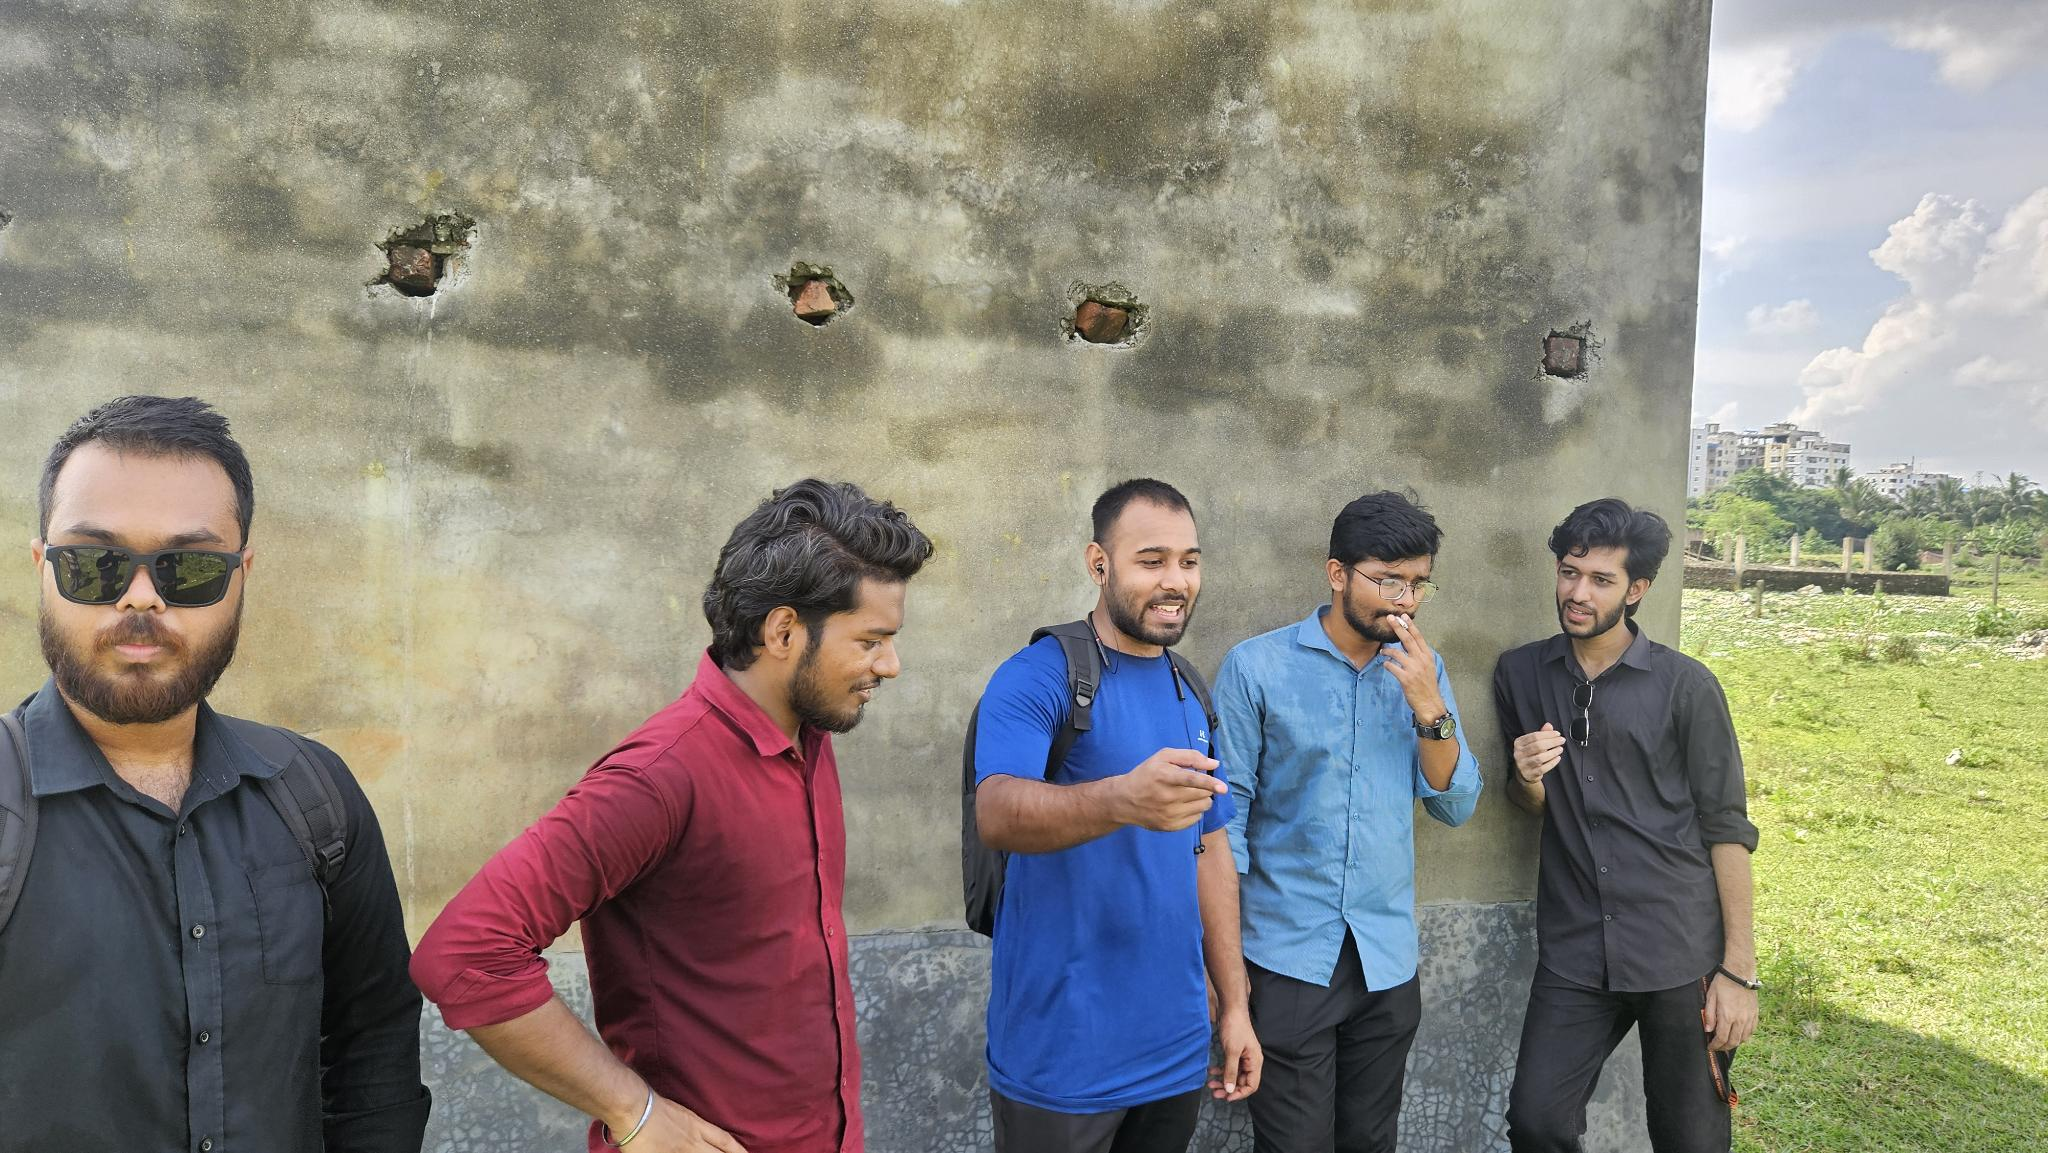cigarette: (1391, 613, 1411, 630)
nonSmoker: (407, 479, 937, 1153), (0, 391, 428, 1153), (961, 477, 1265, 1153), (1492, 494, 1762, 1153)
smoker: (1210, 491, 1481, 1153)
